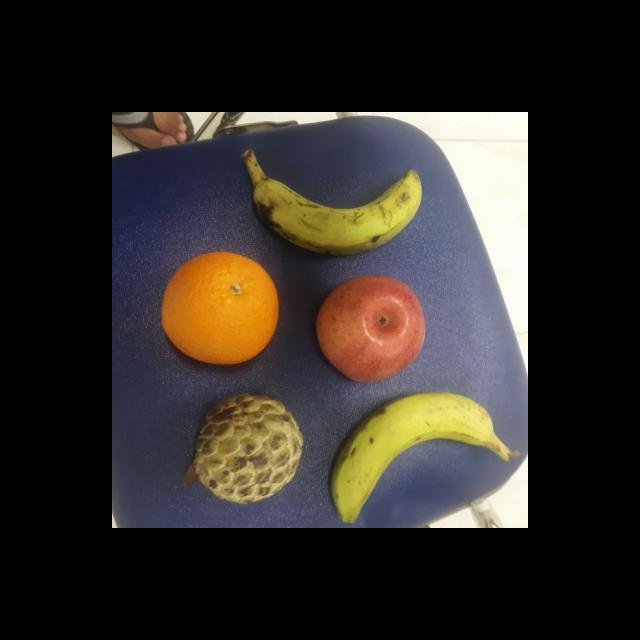Sakya fruit: (195, 391, 305, 506)
apple: (314, 274, 428, 384)
banana: (326, 390, 502, 524), (247, 162, 424, 258)
orange: (160, 252, 280, 366)
